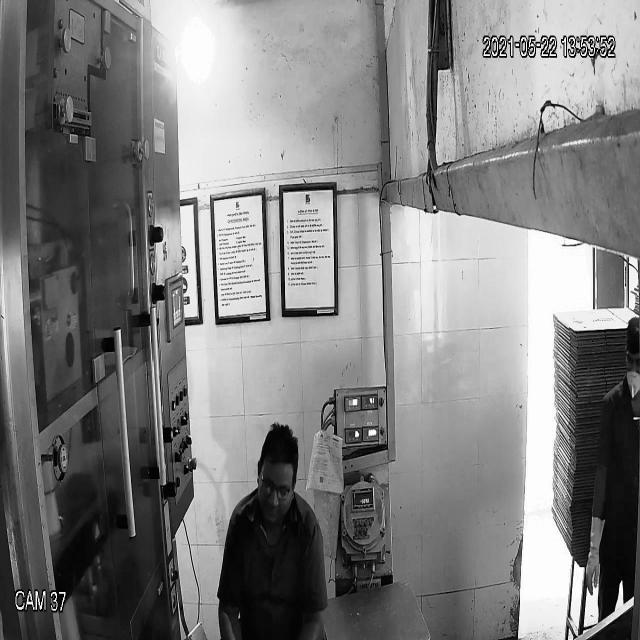glasses: (253, 464, 295, 504)
